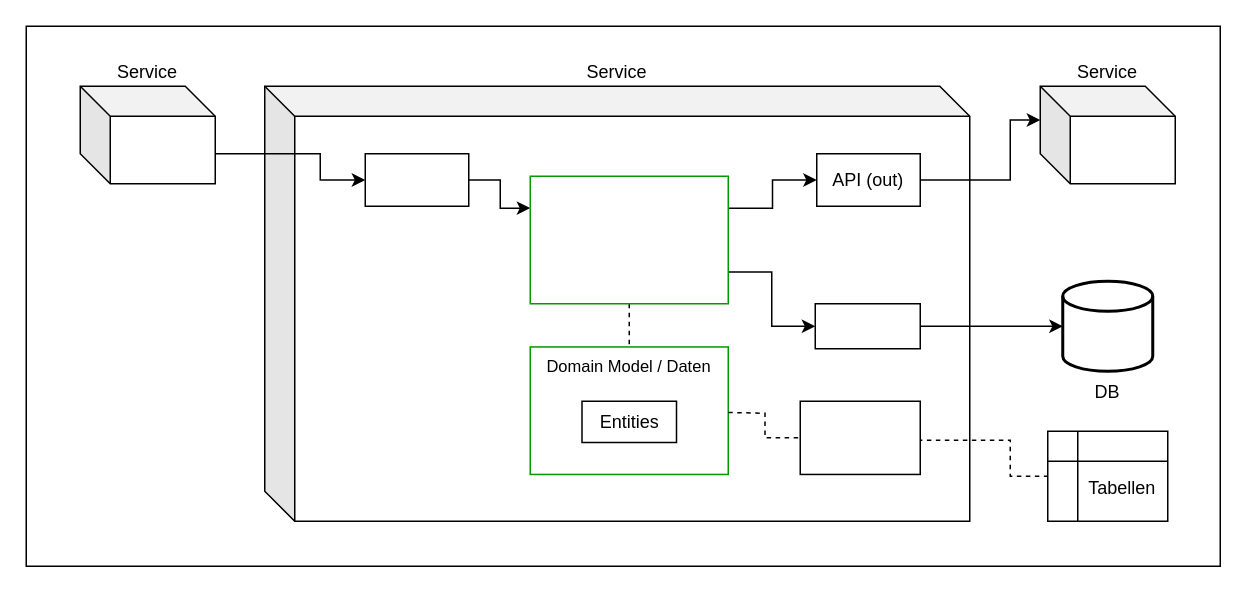
The diagram is 1247 pixels wide and 593 high, and some of its shapes have lost their labels. The centre of each missing label's shape, as x and y in pixels:
"API (in)" belongs at (x=416, y=179).
"DB Model" belongs at (x=859, y=437).
"DB-API" belongs at (x=867, y=325).
"Domain Logik ( Fachlichkeit)" belongs at (x=628, y=239).
